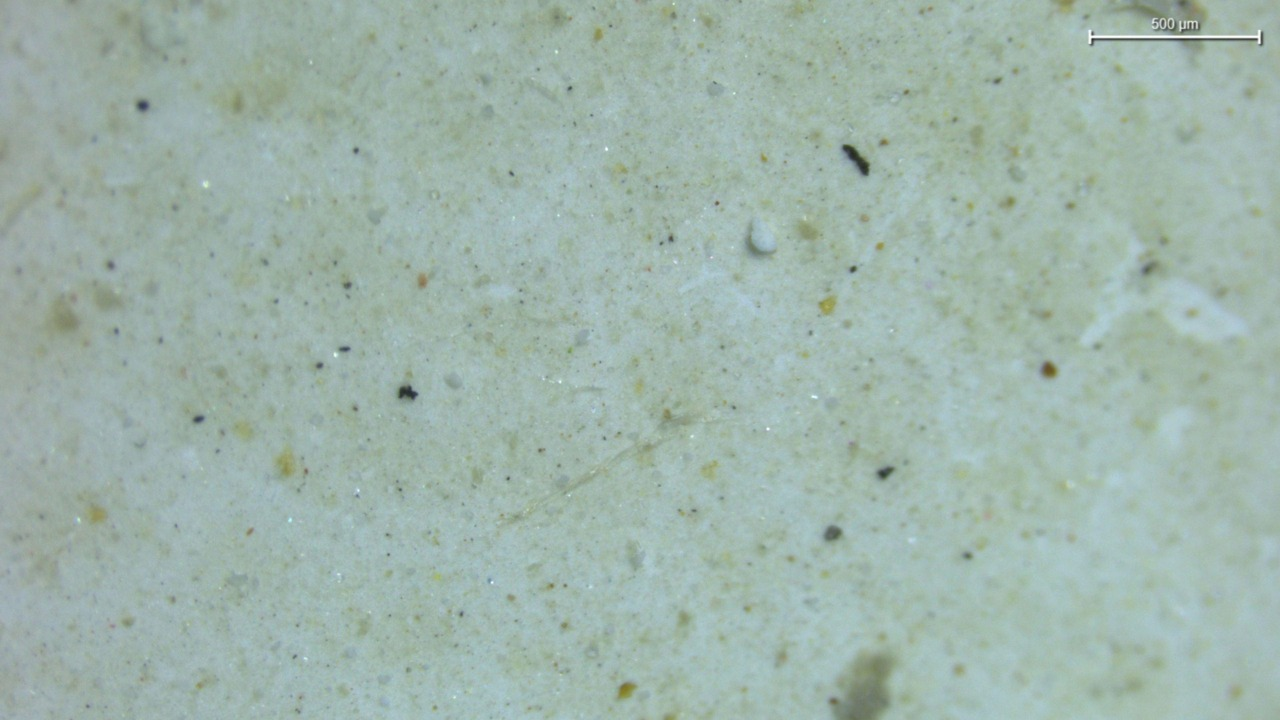microplastic_fragment: (750, 218, 776, 253)
